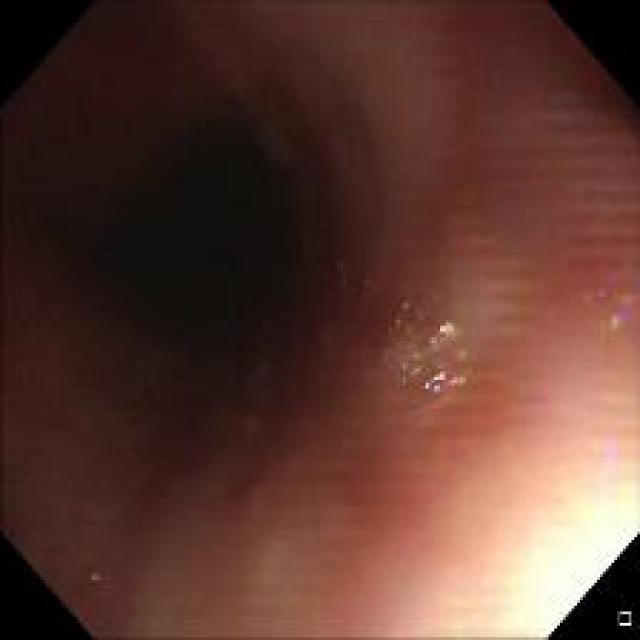color misalignment: (379, 296, 469, 401), (595, 280, 630, 336), (590, 425, 618, 489)
contrast: (14, 11, 380, 479)
saturation: (495, 491, 635, 632)
specularity: (439, 319, 454, 339)
